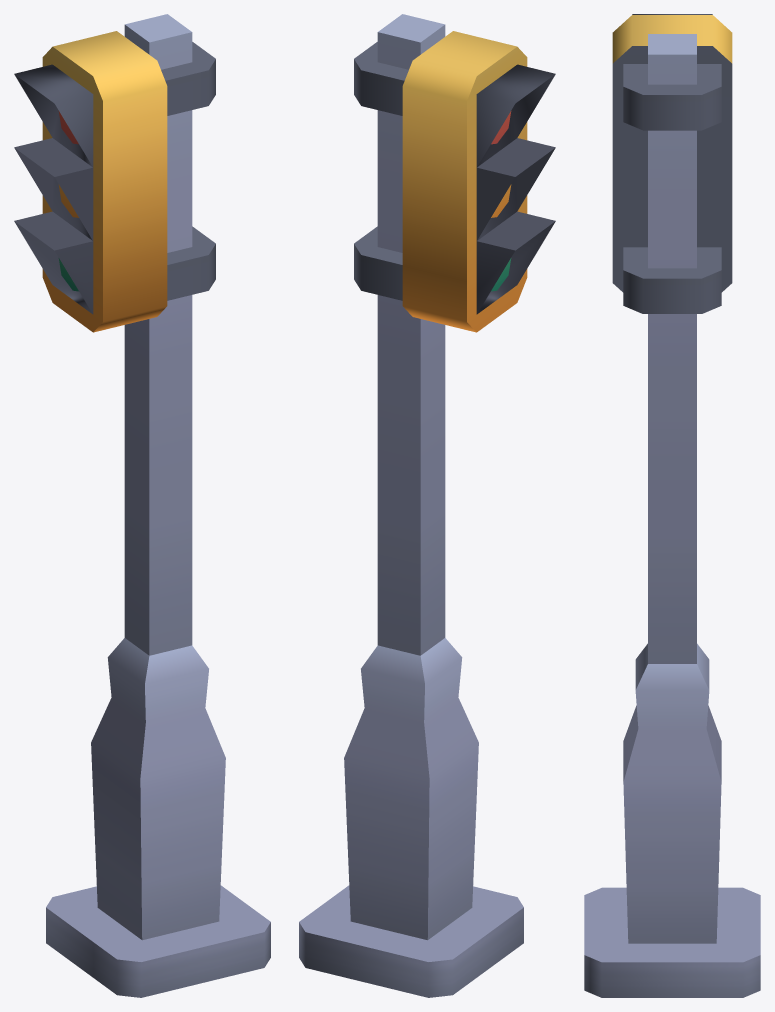
Rendered from traffic-light.glb.
3 views of the same model, side by side, from view 1: azimuth 30°, elevation 25°; view 2: azimuth 150°, elevation 25°; view 3: azimuth 270°, elevation 25° (orthographic).
Visible parts, largest first — view 1: traffic-light; view 2: traffic-light; view 3: traffic-light.
Part boxes in pixels (<box>): traffic-light: <box>14,14,270,997</box>; traffic-light: <box>299,14,555,997</box>; traffic-light: <box>584,14,760,997</box>.
Bounding box in the file's own units: 0.9405 × 4.12 × 0.7197.
Materials: 1 (1 with a texture image).
